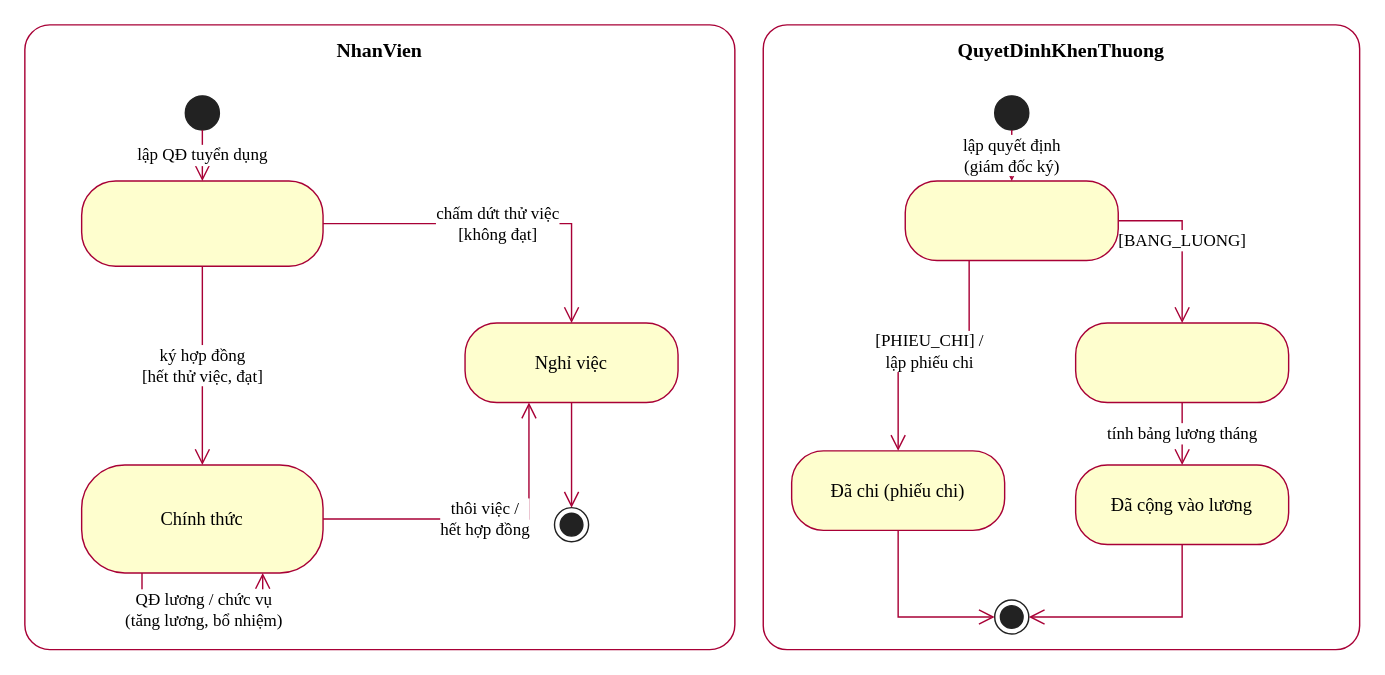
Image size: 1385x675. Some labels were removed from this diagram. The shapes that lost their labels are listed below. From the top down, each one's centre as x and y in pixels, then its label:
the point at 201,223: Thử việc
the point at 1011,220: Đã lập
the point at 1181,362: Chờ cộng lương
